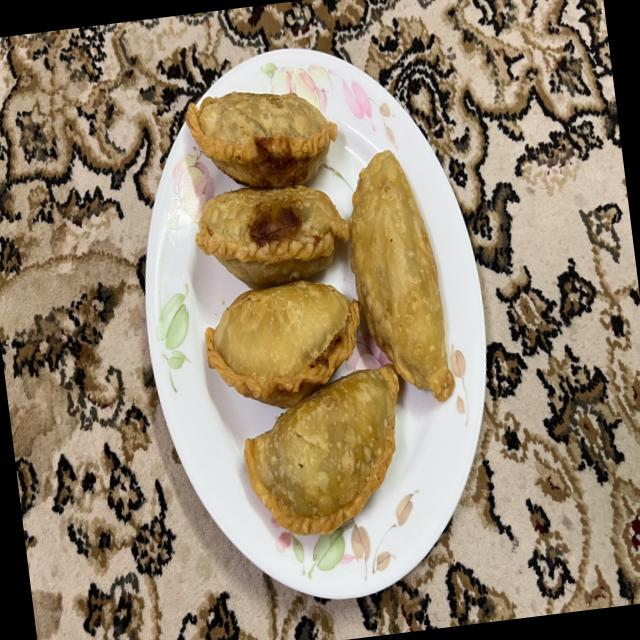karipap: (244, 367, 398, 535), (349, 150, 450, 397), (204, 279, 360, 408), (197, 186, 349, 288), (185, 90, 337, 188)
